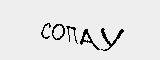А: (80, 28, 98, 51)
О: (51, 22, 66, 41)
П: (66, 24, 80, 45)
С: (36, 21, 52, 41)
У: (100, 25, 123, 56)
